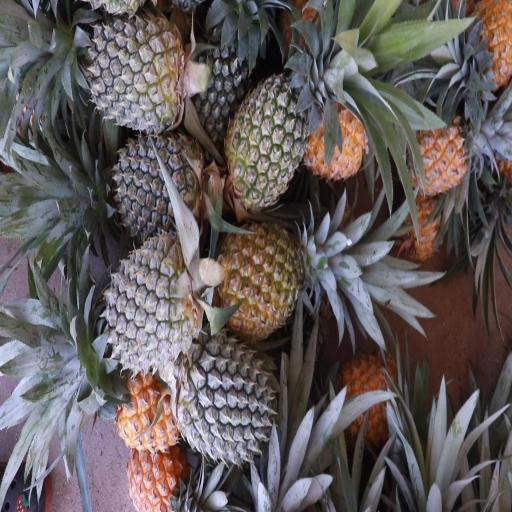------------------------------: (226, 82, 324, 205), (216, 225, 308, 338)
Pineapple - v8 v1: (106, 357, 180, 449), (303, 88, 367, 174), (340, 354, 395, 452), (413, 107, 474, 192), (126, 436, 188, 512), (470, 0, 510, 90)
